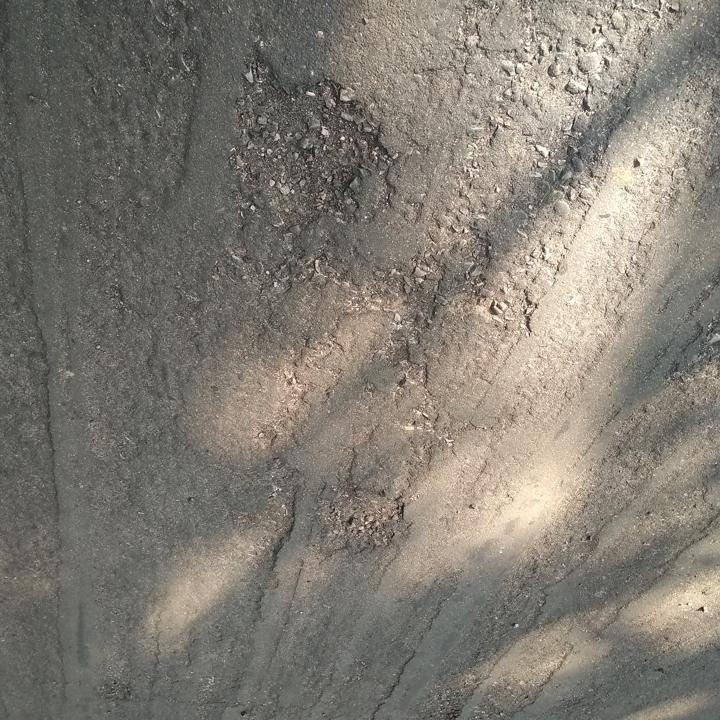pothole: (219, 56, 390, 226), (316, 483, 410, 560), (410, 678, 477, 719), (91, 678, 135, 706)
